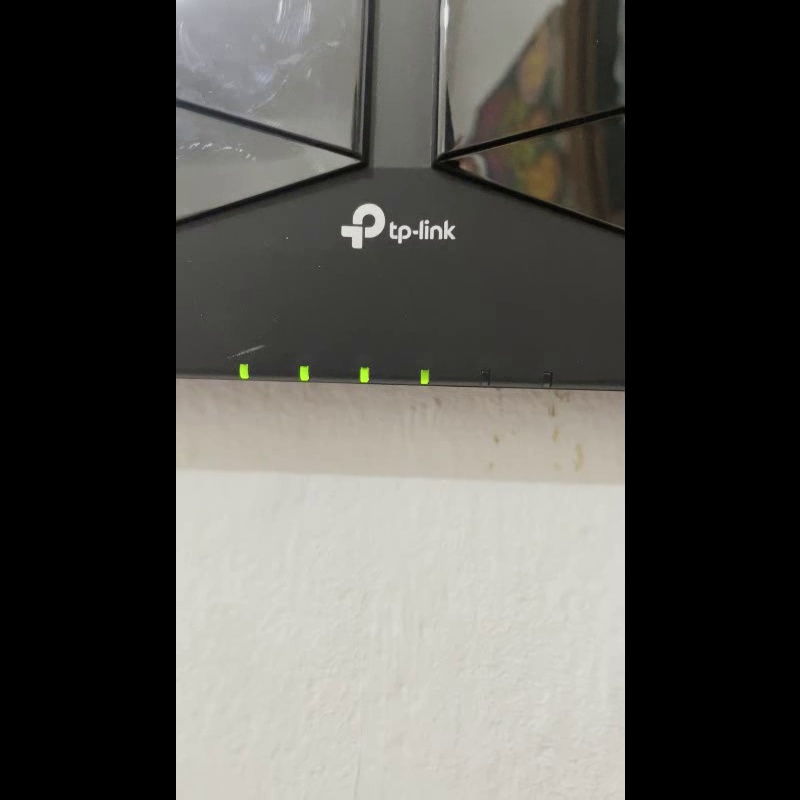off: (540, 370, 552, 386), (480, 368, 489, 384)
on_green: (419, 367, 429, 384), (238, 363, 249, 378), (359, 366, 369, 382), (298, 365, 308, 380)
